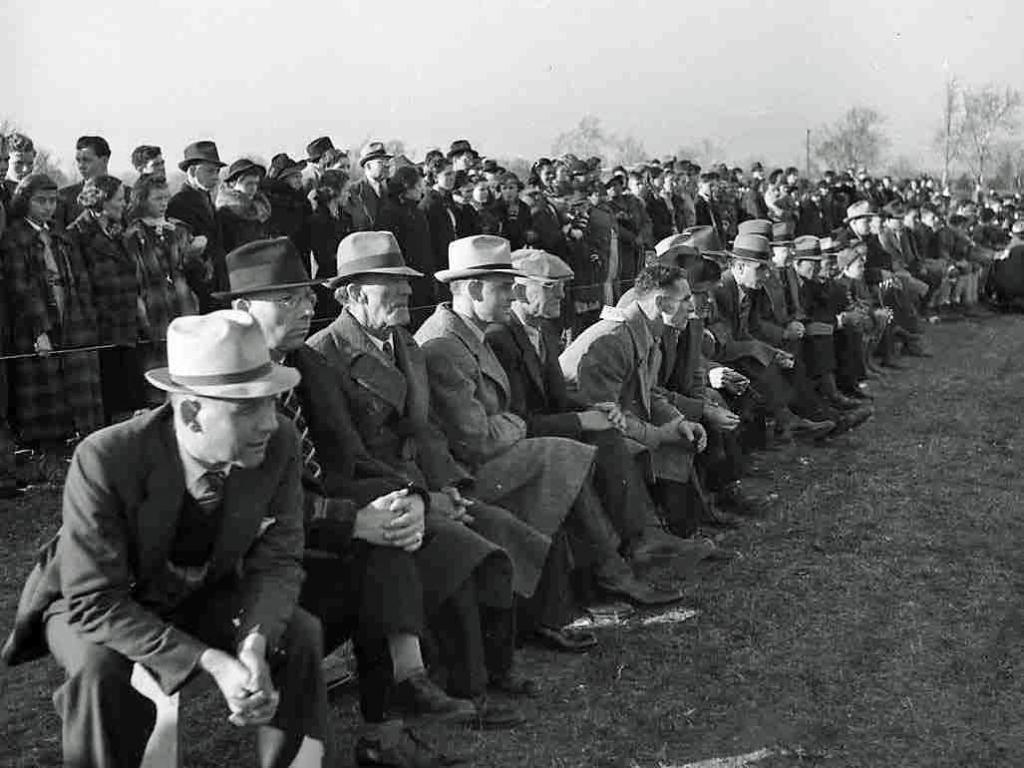Hat: (144, 307, 298, 401), (208, 238, 328, 295), (320, 226, 424, 282), (431, 234, 524, 276), (650, 245, 722, 294), (724, 230, 774, 264), (177, 138, 226, 166), (221, 158, 270, 183), (688, 222, 724, 256), (656, 229, 700, 256), (299, 132, 331, 164), (354, 142, 394, 165), (271, 151, 305, 176), (736, 220, 770, 245), (766, 218, 796, 243), (442, 134, 475, 156), (791, 238, 822, 261), (846, 202, 876, 221), (884, 201, 903, 224), (598, 169, 620, 188), (825, 238, 842, 256)
